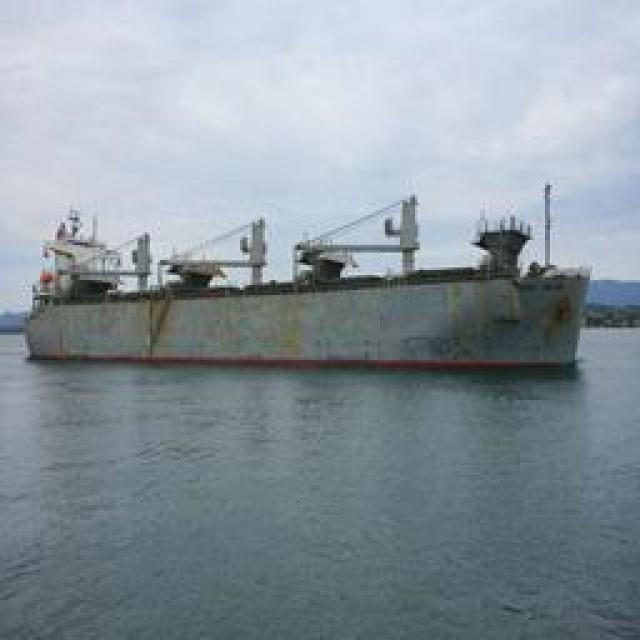Ship: (25, 189, 605, 374)
